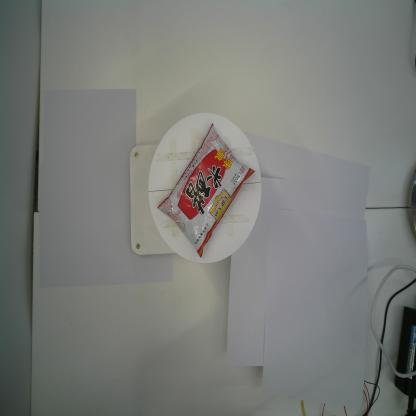Seasoner: (157, 122, 256, 258)
